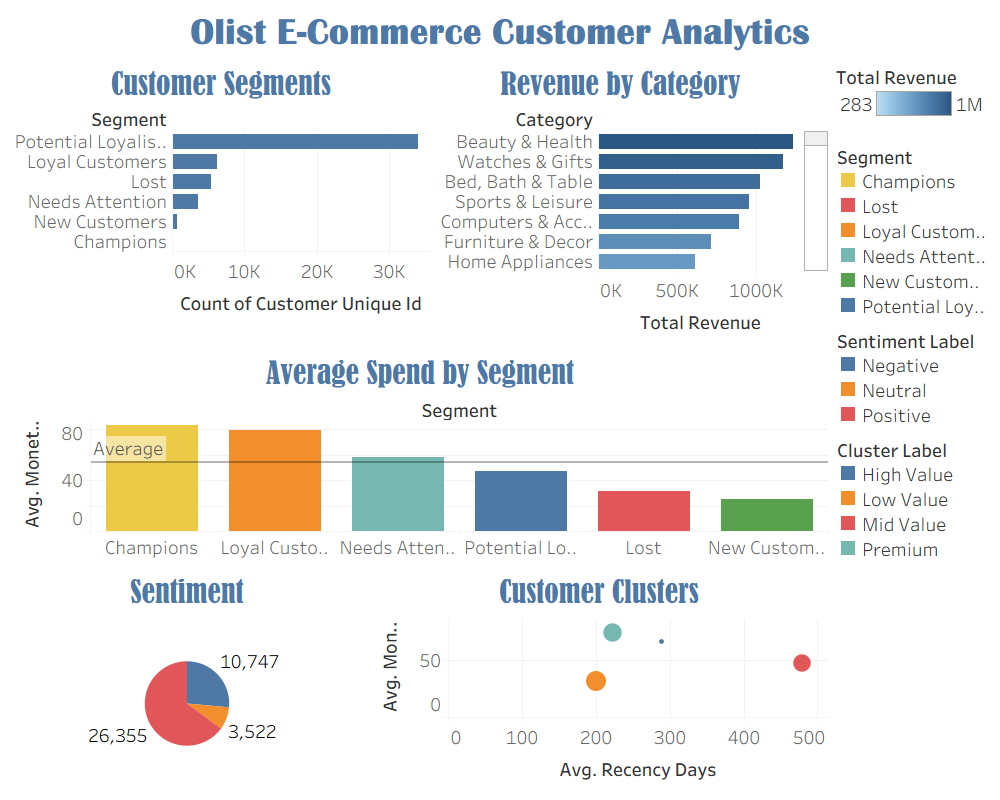

The page's visual inventory and layout, read from the dashboard file:
{"tool":"tableau","page":{"name":"Dashboard 1","canvas":[1000,800],"ordinal":0},"visuals":[{"type":"title","box":[8,8,984,58]},{"type":"worksheet","title":"Customer segments","mark":"Automatic","rows":["segment"],"cols":["customer_unique_id"],"box":[8,66,396,242]},{"type":"worksheet","title":"Revenue by Category","mark":"Automatic","rows":["category"],"cols":["total_revenue"],"box":[404,66,428,242]},{"type":"legend","title":"Revenue by Category","param":"[federated.0biwegr0ry6f9t0zvk3gv0idu6ne].[sum:total_revenue:qk]","box":[832,66,160,81]},{"type":"legend","title":"Sentiment","param":"[federated.19ho5760sqnusl11a332m0v4lka9].[none:sentiment_label:nk]","box":[832,147,160,109]},{"type":"legend","title":"Sentiment","param":"[federated.19ho5760sqnusl11a332m0v4lka9].[cnt:review_id:qk]","box":[832,256,160,59]},{"type":"worksheet","title":"Avg Spend by Segment","mark":"Automatic","rows":["monetary"],"cols":["segment"],"box":[8,308,824,242]},{"type":"legend","title":"Customer Clusters","param":"[federated.1khp31w1j3qwgx18khbs41x8pgj9].[none:cluster_label:nk]","box":[832,315,160,134]},{"type":"legend","title":"Customer Clusters","param":"[federated.1khp31w1j3qwgx18khbs41x8pgj9].[sum:frequency:qk]","box":[832,449,160,159]},{"type":"worksheet","title":"Sentiment","mark":"Pie","box":[8,550,412,242]},{"type":"worksheet","title":"Customer Clusters","mark":"Circle","rows":["monetary"],"cols":["recency_days"],"box":[420,550,412,242]},{"type":"legend","title":"Avg Spend by Segment","param":"[federated.1khp31w1j3qwgx18khbs41x8pgj9].[none:segment:nk]","box":[832,608,160,184]}]}

Visuals, with their boxes in screenshot pixels (x1, y1, x2, y2), scaled from the page's 1000x800 canvas onto the 1000x800 screenshot:
title: [x1=8, y1=8, x2=992, y2=66]
"Customer segments" worksheet: [x1=8, y1=66, x2=404, y2=308]
"Revenue by Category" worksheet: [x1=404, y1=66, x2=832, y2=308]
"Revenue by Category" legend: [x1=832, y1=66, x2=992, y2=147]
"Sentiment" legend: [x1=832, y1=147, x2=992, y2=256]
"Sentiment" legend: [x1=832, y1=256, x2=992, y2=315]
"Avg Spend by Segment" worksheet: [x1=8, y1=308, x2=832, y2=550]
"Customer Clusters" legend: [x1=832, y1=315, x2=992, y2=449]
"Customer Clusters" legend: [x1=832, y1=449, x2=992, y2=608]
"Sentiment" worksheet (Pie marks): [x1=8, y1=550, x2=420, y2=792]
"Customer Clusters" worksheet (Circle marks): [x1=420, y1=550, x2=832, y2=792]
"Avg Spend by Segment" legend: [x1=832, y1=608, x2=992, y2=792]
